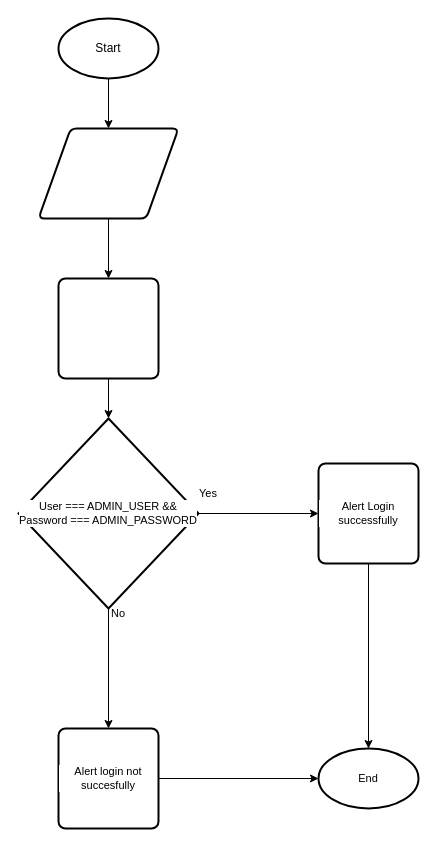
This 436x846 diagram has some shape labels left out. The centre of each missing label's shape, as x and y in pixels:
"ADMIN_USER ADMIN_PASS" belongs at point 108,173.
"Input User Input Password" belongs at point 108,328.
